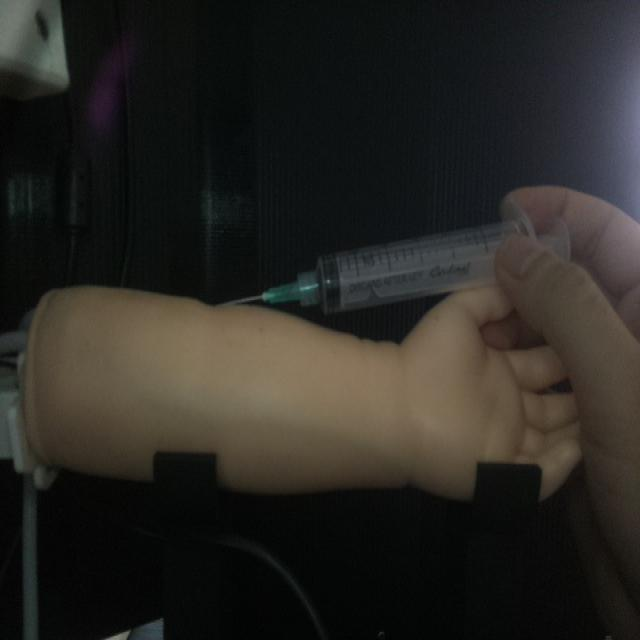Outside: (216, 196, 571, 320)
